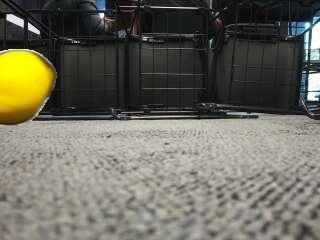lemon: (0, 50, 55, 124)
